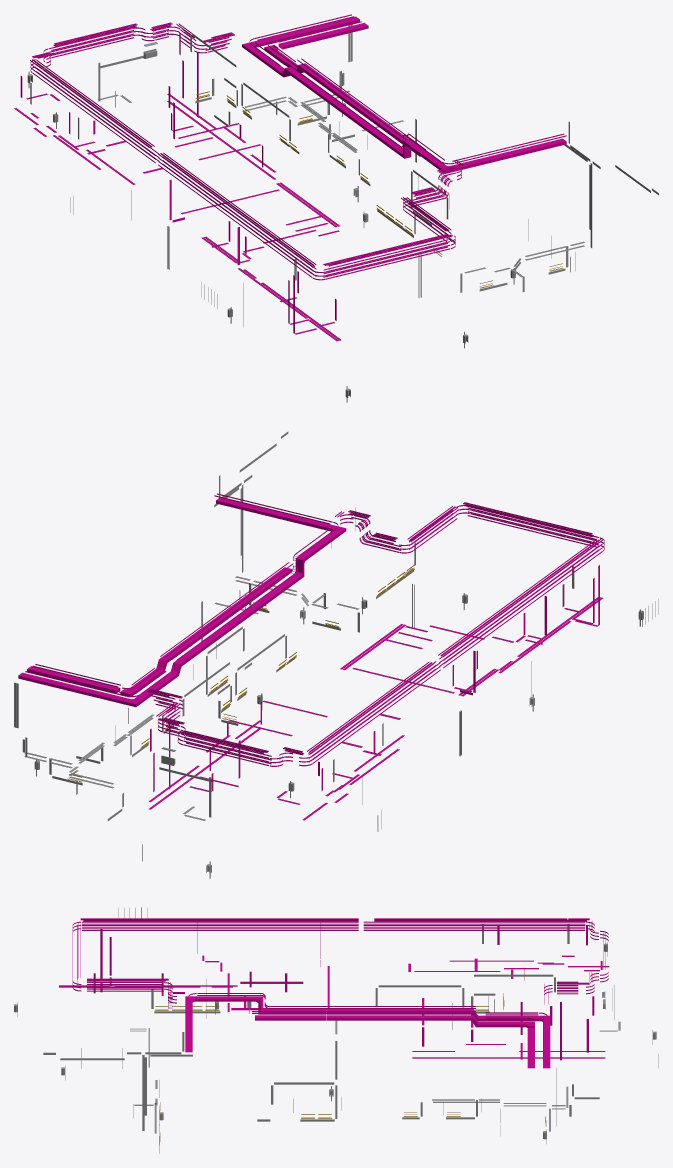
3 views of the same model, one above another, from view 1: azimuth 30°, elevation 25°; view 2: azimuth 150°, elevation 25°; view 3: azimuth 270°, elevation 25° (orthographic). The views are drawn at different scales.
Bounding box in the file's own units: 58.34 × 19.19 × 90.22.
